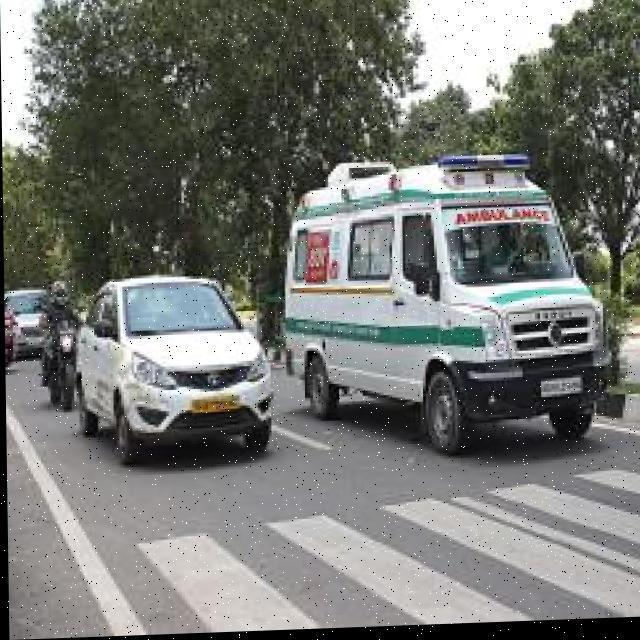Ambulance: (4, 316, 640, 637), (274, 150, 614, 464), (67, 268, 276, 468)
